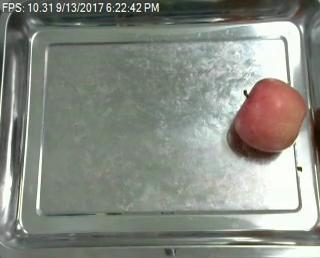apple: (233, 77, 307, 152)
